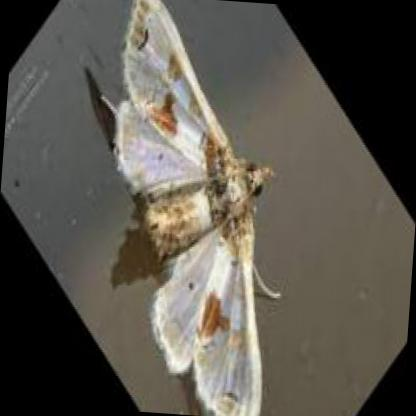leucinodes: (116, 0, 268, 414)
